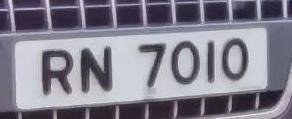0: (168, 34, 205, 91), (218, 29, 252, 89)
1: (201, 32, 220, 92)
7: (132, 36, 169, 94)
N: (73, 42, 123, 99)
R: (31, 44, 80, 102)
